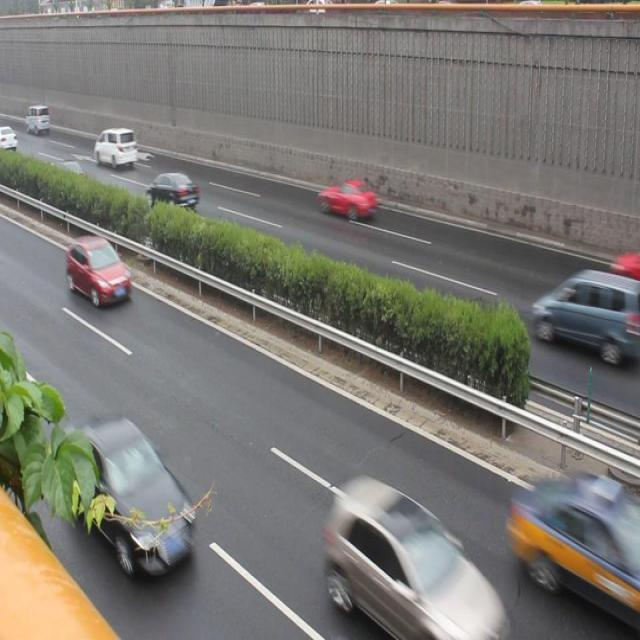car: (322, 466, 511, 640), (66, 404, 199, 576), (505, 458, 640, 619), (532, 257, 640, 369), (64, 228, 129, 315), (314, 172, 378, 224), (150, 164, 202, 216), (597, 237, 640, 292)
